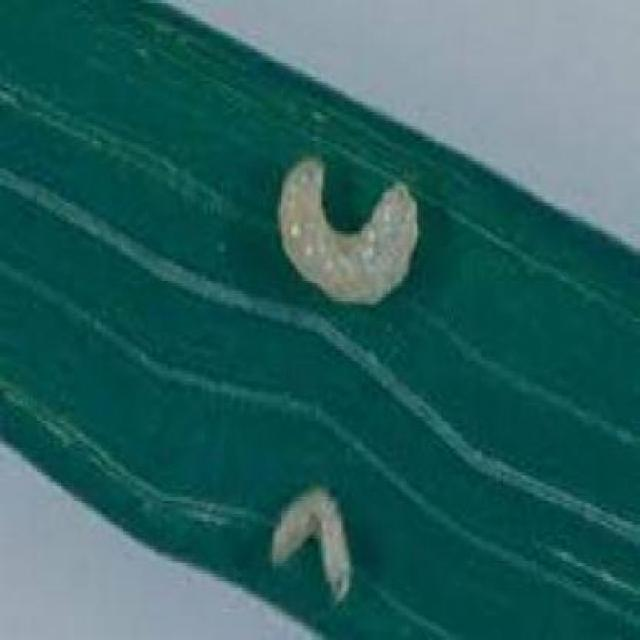whorl-maggot: (263, 144, 425, 318), (260, 463, 365, 606)
